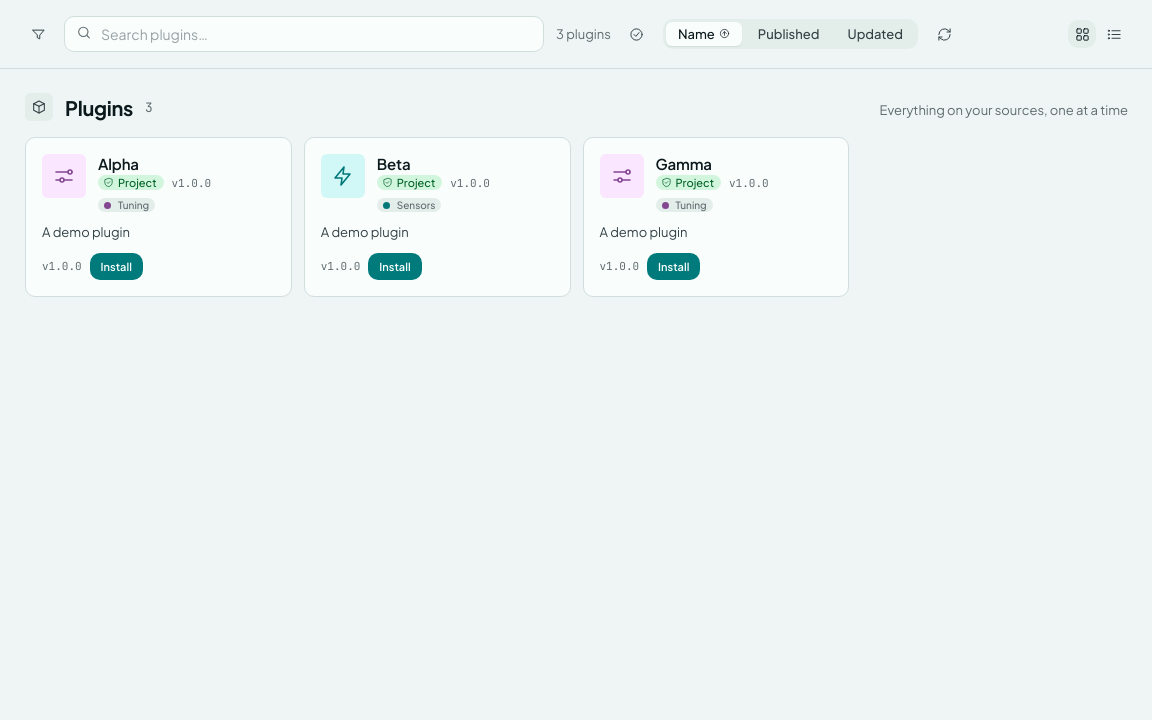
Test: PluginStore filtering › filters by category
Check: the text "Alpha" is shown, box [98,154,139,173]
Click the button named "Filters" at (38, 34), box [24,20,52,48]
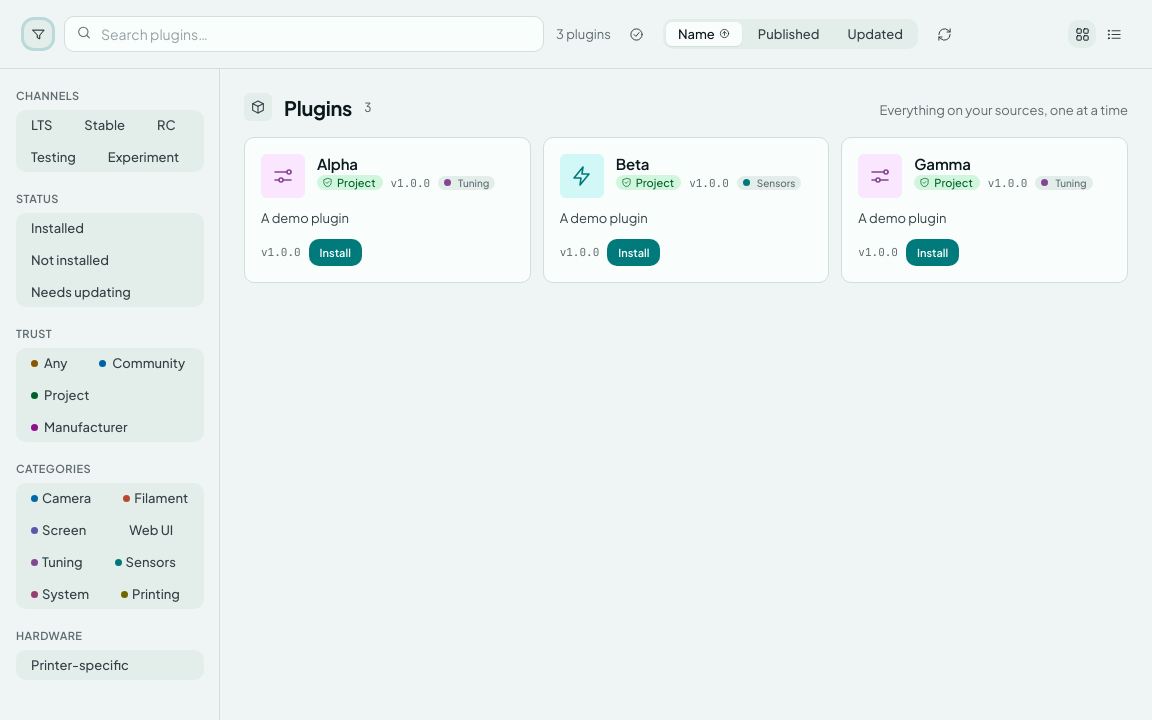
Click the button "Tuning" at (57, 562), box [19,550,94,574]
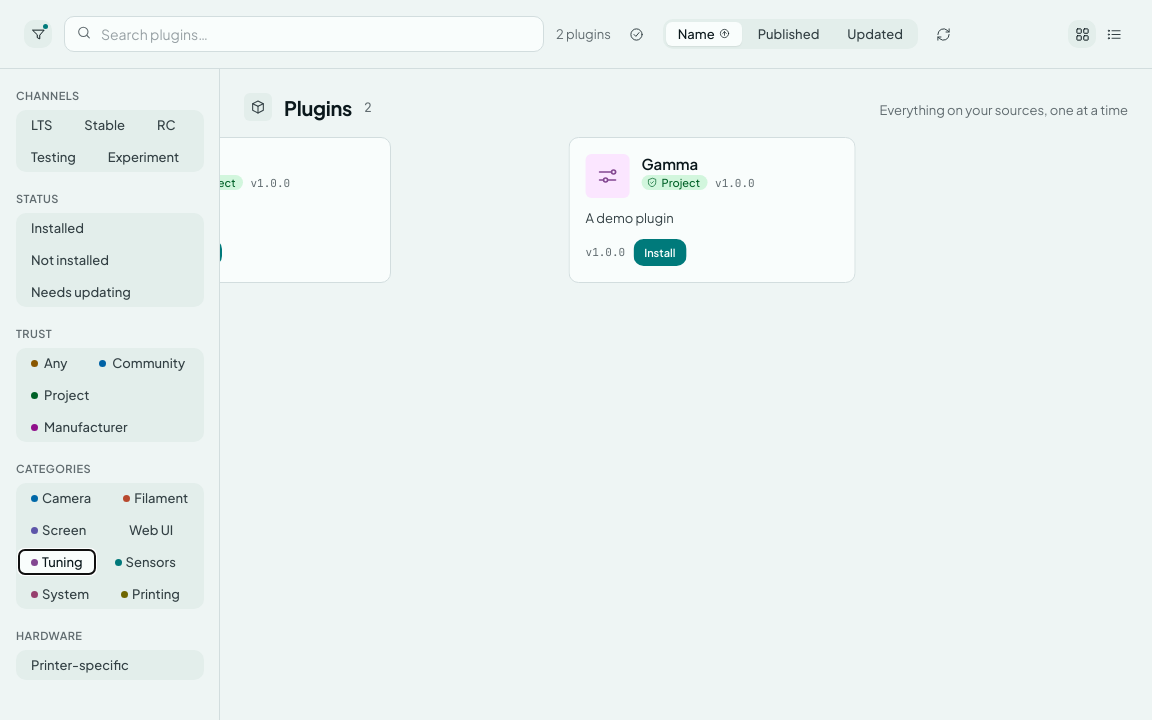
Check: the text "Gamma" is shown, box [626,154,682,173]
Check: the button "Beta" is gone
